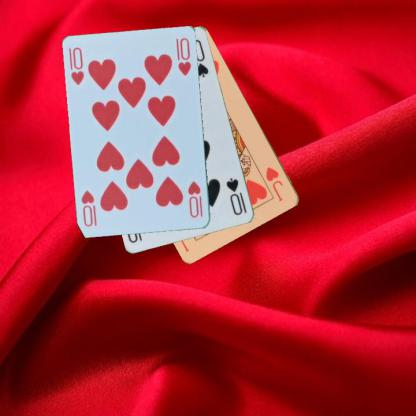10h: (68, 45, 86, 87), (186, 179, 202, 219)
10s: (224, 175, 248, 217)
Jh: (263, 164, 285, 203)
